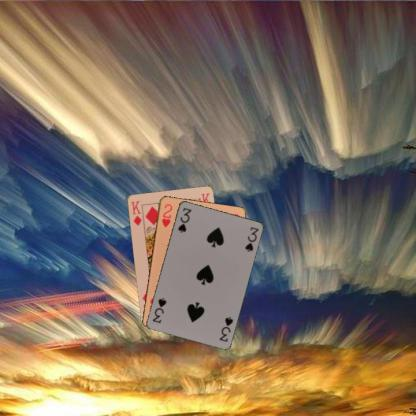2h: (159, 201, 173, 229)
3s: (175, 205, 192, 234), (217, 314, 234, 342)
Kd: (128, 198, 143, 227)
